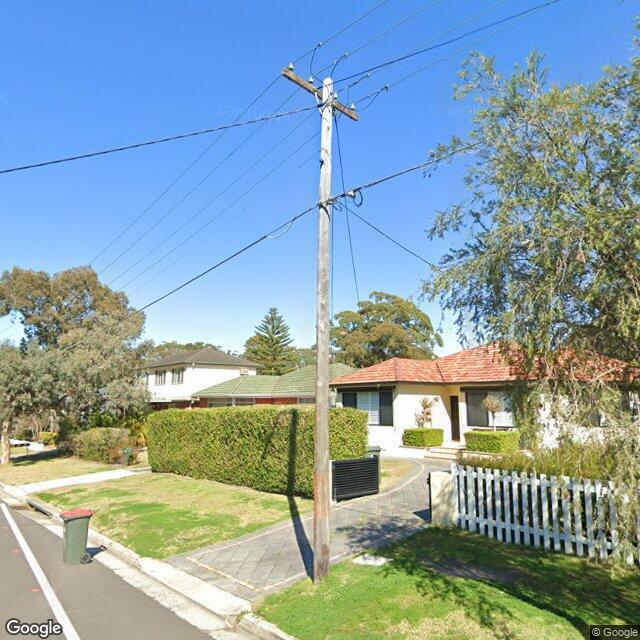crossarm: (282, 65, 359, 123)
timber-pole: (312, 78, 334, 584)
